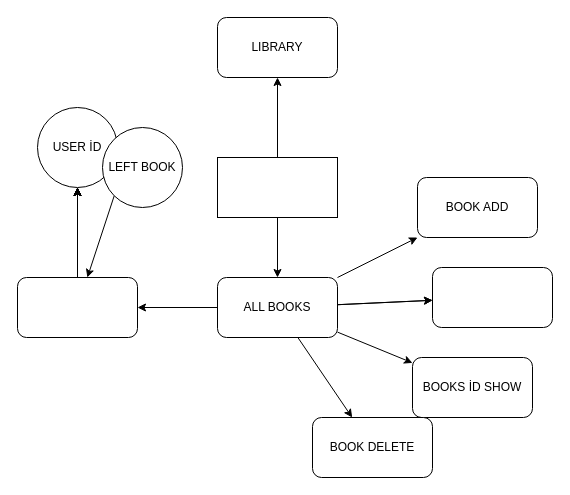
Image size: 570x495. Some labels were removed from this diagram. The shapes that lost their labels are listed below. From the top down, each one's box as (x1, y1, x2, y2) in pixels, then its label:
(216, 156, 338, 218): REGİSTER/LOGİN
(16, 276, 138, 338): TAKE /LEFT BOOK
(432, 266, 552, 328): BOOK UPDATE
